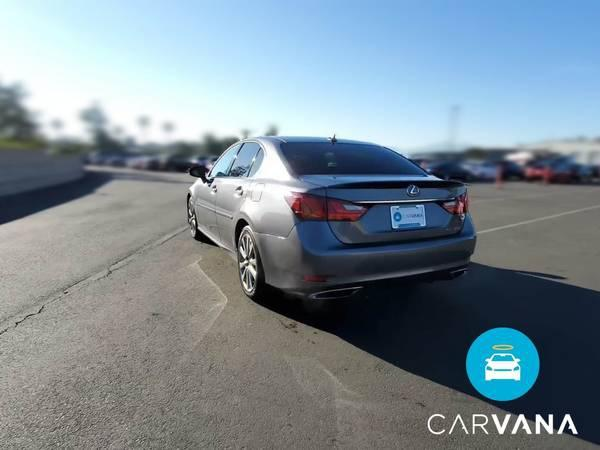Front_Left_Door: (199, 177, 226, 245)
Front_Left_Window: (207, 144, 243, 176)
Left_Taillight: (286, 190, 374, 221)
Rear_Bumper: (253, 210, 475, 294)
Rear_Fender: (238, 178, 324, 237)
Rear_Left_Door: (218, 177, 253, 258)
Rear_Left_Window: (227, 142, 265, 178)
Rear_Windshield: (281, 142, 434, 179)
Right_Taillight: (441, 188, 471, 217)
Roof: (226, 135, 382, 180)
Tailgate: (301, 174, 471, 245)
Wheel: (237, 225, 263, 297), (187, 204, 197, 241)
